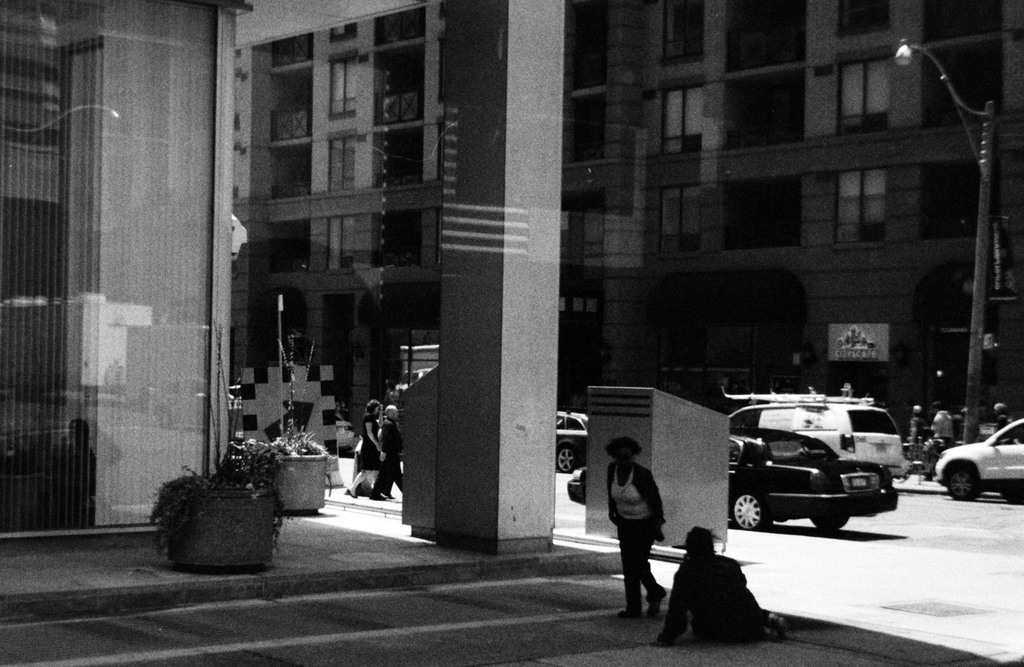cars: (571, 416, 890, 521), (721, 398, 908, 470), (944, 419, 1023, 495), (557, 407, 580, 465), (335, 415, 357, 457)
